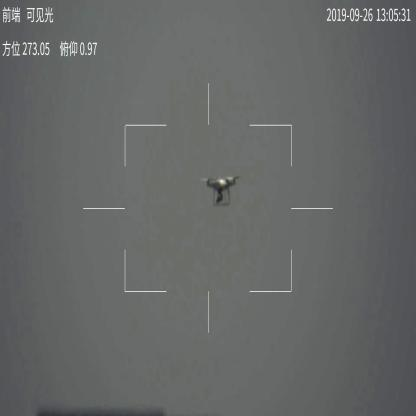uav: (199, 174, 244, 206)
